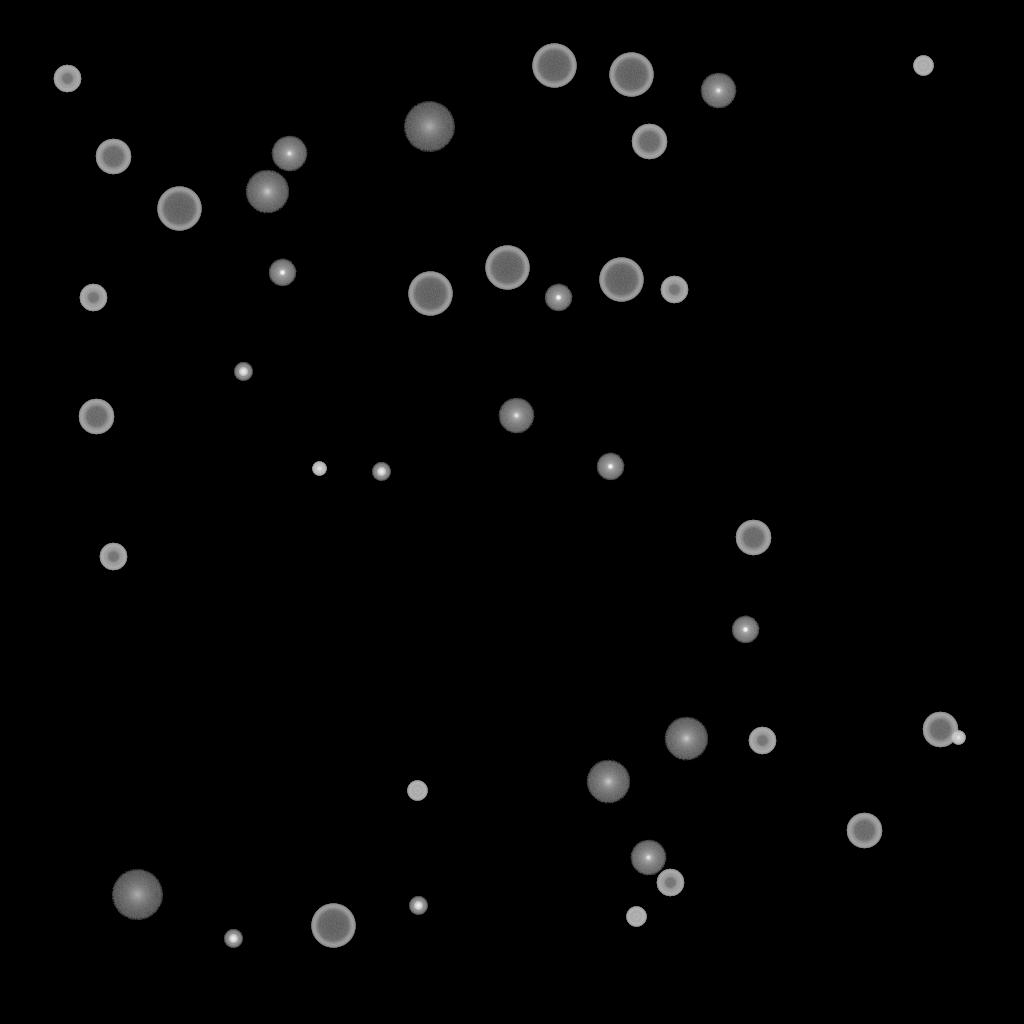depth:-10: (544, 284, 572, 312), (731, 616, 759, 644), (596, 453, 624, 481), (268, 259, 296, 287)
depth:-20: (372, 463, 390, 481), (234, 363, 252, 381), (409, 897, 427, 915), (224, 930, 242, 948)
depth:-30: (951, 731, 965, 745), (312, 462, 326, 476)
depth:-40: (913, 56, 933, 76), (407, 781, 427, 801), (626, 907, 646, 927)
depth:-50: (660, 276, 688, 304), (656, 869, 684, 897), (99, 543, 127, 571), (53, 65, 81, 93), (79, 284, 107, 312), (748, 727, 776, 755)
depth:-60: (78, 399, 114, 435), (95, 139, 131, 175), (631, 124, 667, 160), (735, 520, 771, 556), (846, 813, 882, 849), (922, 712, 958, 748)
depth:-70: (311, 904, 355, 948), (599, 258, 643, 302), (609, 53, 653, 97), (157, 187, 201, 231), (532, 44, 576, 88), (485, 246, 529, 290), (408, 272, 452, 316)
depth:0: (630, 840, 666, 876), (498, 398, 534, 434), (700, 73, 736, 109), (271, 136, 307, 172)
depth:10: (245, 170, 289, 214), (664, 717, 708, 761), (586, 760, 630, 804)
depth:20: (111, 870, 163, 920), (403, 102, 455, 152)
